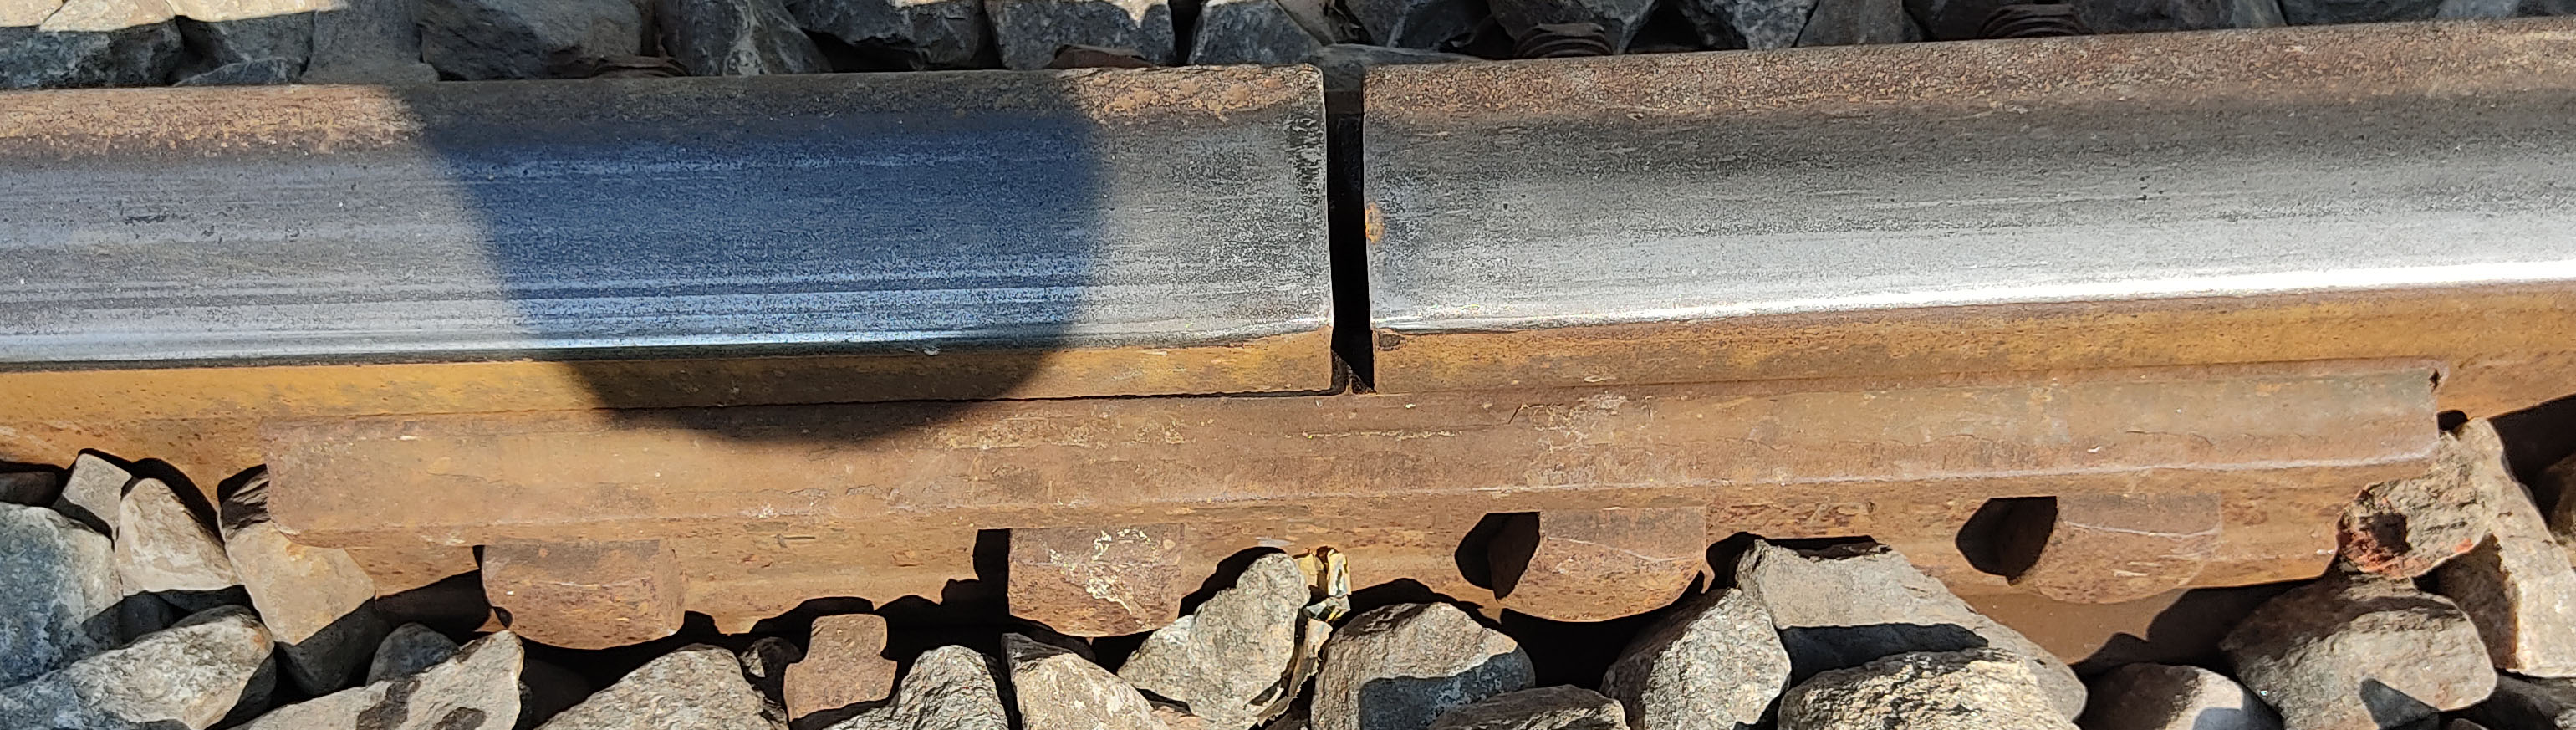error2: (1286, 48, 1423, 404)
